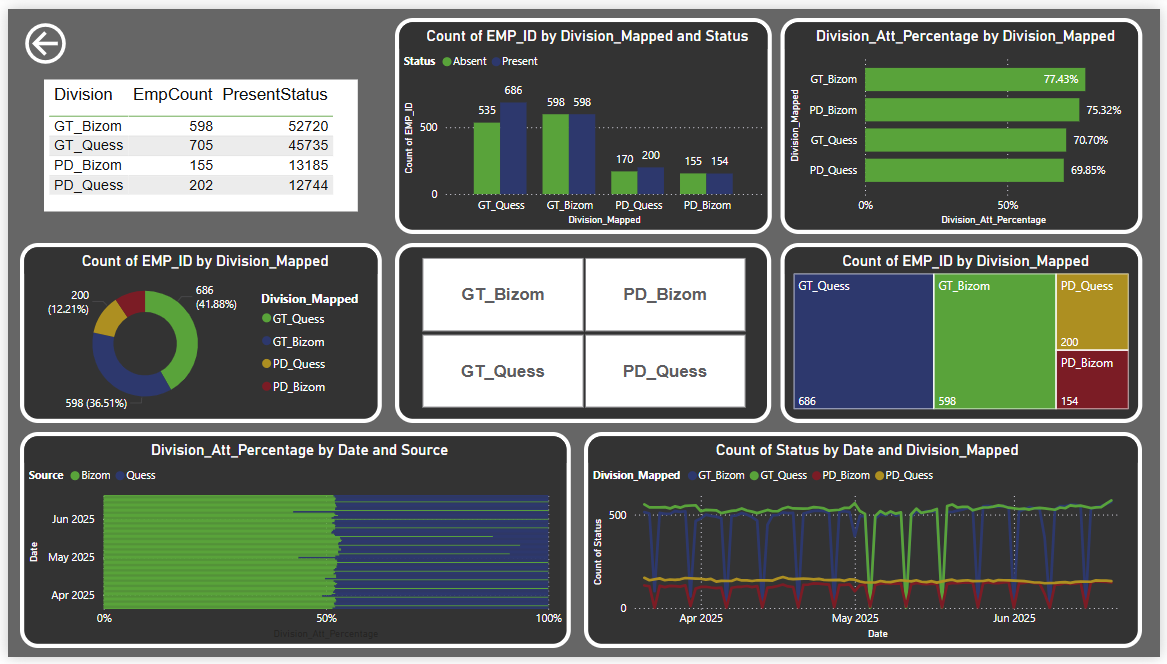

The dashboard page shown, as its layout file describes it:
{"tool":"powerbi","page":{"name":"Division","canvas":[1280,720],"ordinal":1},"visuals":[{"type":"slicer","fields":{"Values":["Unified_Attendance.Division_Mapped"]},"box":[430,260,418,200],"z":0},{"type":"barChart","fields":{"Y":["Unified_Attendance.Division_Att_Percentage"],"Category":["Unified_Attendance.Division_Mapped"]},"box":[858.3,10,401.7,240],"z":1000},{"type":"clusteredColumnChart","fields":{"Series":["Unified_Attendance.Status"],"Y":["Count(Unified_Attendance.EMP_ID)"],"Category":["Unified_Attendance.Division_Mapped"]},"box":[430,10,418.3,240],"z":2000},{"type":"lineChart","fields":{"Category":["Unified_Attendance.Date"],"Series":["Unified_Attendance.Division_Mapped"],"Y":["CountNonNull(Unified_Attendance.Status)"]},"box":[640,470,620,240],"z":3000},{"type":"hundredPercentStackedBarChart","fields":{"Series":["Unified_Attendance.Source"],"Category":["Unified_Attendance.Date"],"Y":["Unified_Attendance.Division_Att_Percentage"]},"box":[14,470,612,240],"z":4000},{"type":"donutChart","fields":{"Y":["Count(Unified_Attendance.EMP_ID)"],"Category":["Unified_Attendance.Division_Mapped"]},"box":[14,260,402,200],"z":5000},{"type":"treemap","fields":{"Group":["Unified_Attendance.Division_Mapped"],"Values":["Count(Unified_Attendance.EMP_ID)"]},"box":[858,260,402,200],"z":6000},{"type":"actionButton","box":[13.3,10,168.3,56.7],"z":7000},{"type":"tableEx","fields":{"Values":["Unified_Attendance.Division_Mapped","Unified_Attendance.EMP_ID","Unified_Attendance.Status"]},"box":[40,78.3,348.3,146.7],"z":8000}]}

Visuals, with their boxes in screenshot pixels (x1, y1, x2, y2), scaled from the page's 1280x720 canvas onto the 1167x664 screenshot:
slicer - Unified_Attendance.Division_Mapped: [392,240,773,424]
barChart - Unified_Attendance.Division_Att_Percentage x Unified_Attendance.Division_Mapped: [783,9,1149,231]
clusteredColumnChart - Unified_Attendance.Status x Count(Unified_Attendance.EMP_ID): [392,9,773,231]
lineChart - Unified_Attendance.Date x Unified_Attendance.Division_Mapped: [584,433,1149,655]
hundredPercentStackedBarChart - Unified_Attendance.Source x Unified_Attendance.Date: [13,433,571,655]
donutChart - Count(Unified_Attendance.EMP_ID) x Unified_Attendance.Division_Mapped: [13,240,379,424]
treemap - Unified_Attendance.Division_Mapped x Count(Unified_Attendance.EMP_ID): [782,240,1149,424]
actionButton: [12,9,166,62]
tableEx - Unified_Attendance.Division_Mapped x Unified_Attendance.EMP_ID: [36,72,354,208]
